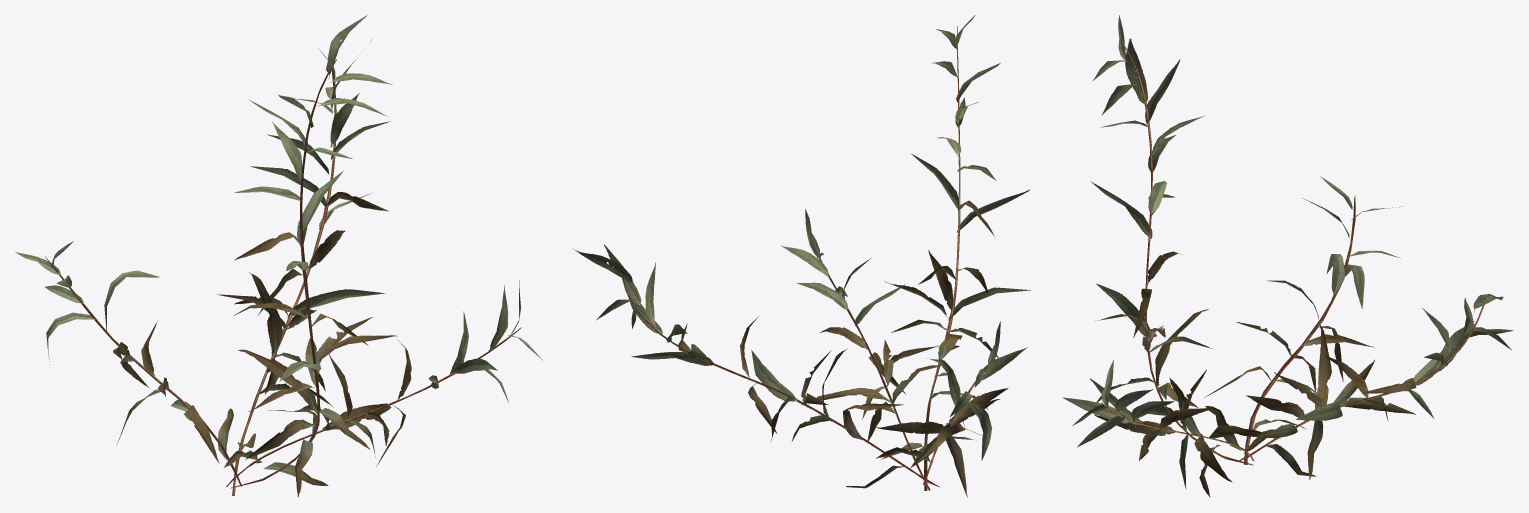
The picture shows the model from 3 angles, left to right: view 1: azimuth 30°, elevation 25°; view 2: azimuth 150°, elevation 25°; view 3: azimuth 270°, elevation 25°; orthographic projection. The views are drawn at different scales.
Parts seen in each view (by area): view 1: shrub_02__d_lod1; view 2: shrub_02__d_lod1; view 3: shrub_02__d_lod1.
Boxes of the visible parts, box(x1,y1,x2,y2) form: shrub_02__d_lod1: box(15, 15, 543, 497); shrub_02__d_lod1: box(574, 15, 1030, 497); shrub_02__d_lod1: box(1062, 15, 1513, 497).
Size of the model in its own units: 1.09 by 1.23 by 1.11.
1 material, 1 textured.
